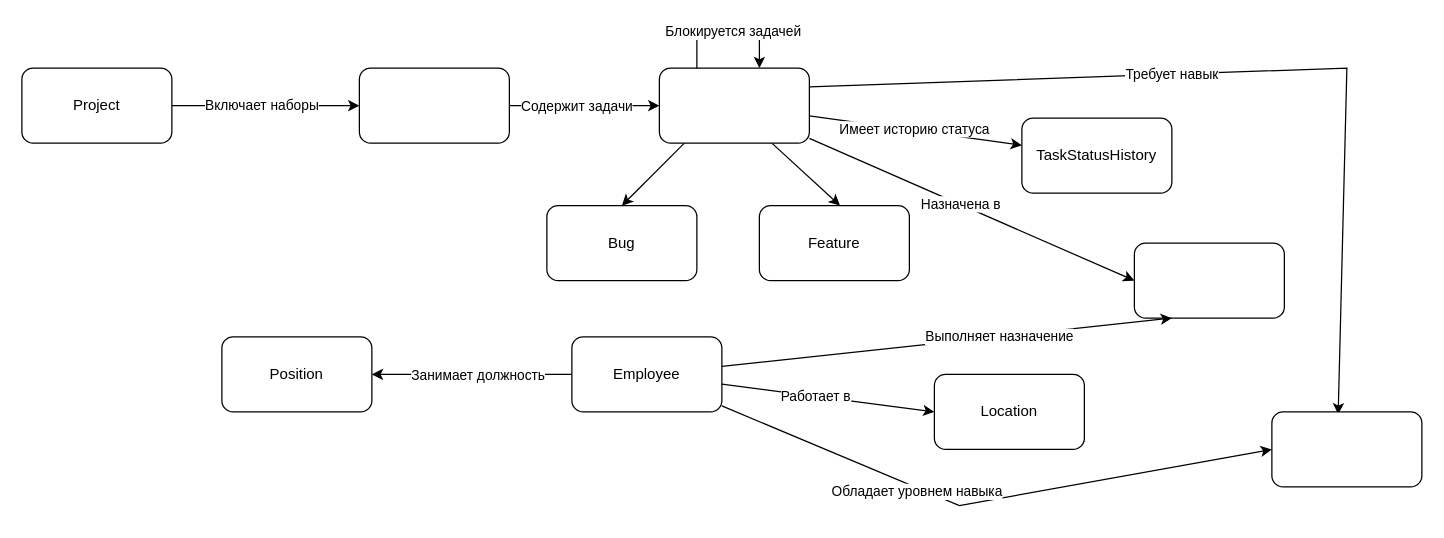
This 1444x538 diagram has some shape labels left out. The shapes that lost their labels are listed below. From the top down, each one's centre as x and y in pixels, then its label:
the point at 433,105: TaskSet
the point at 733,105: Task
the point at 1208,280: Assignement
the point at 1346,449: Skill
